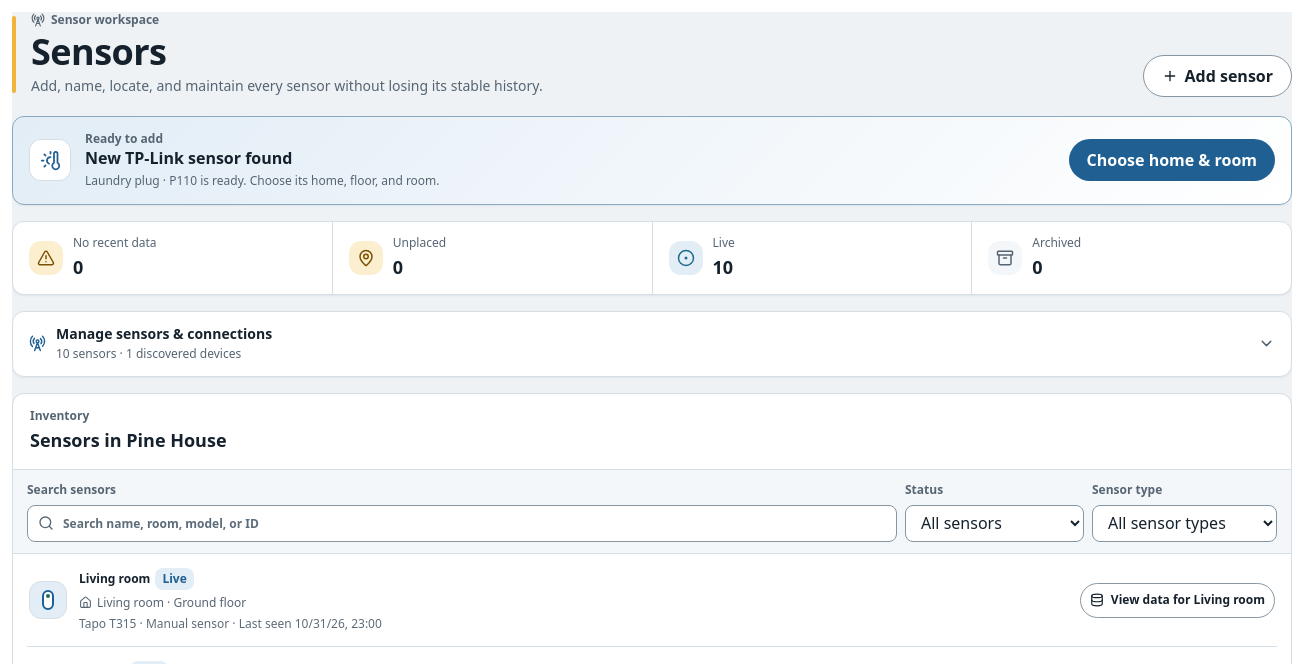
Test case: sensor onboarding and management › labels a direct electricity endpoint and shows its available readings
The image size is (1304, 664).
Click the button "Add sensor". click: (1217, 76)
box: top-left (1142, 55), bottom-right (1292, 97)
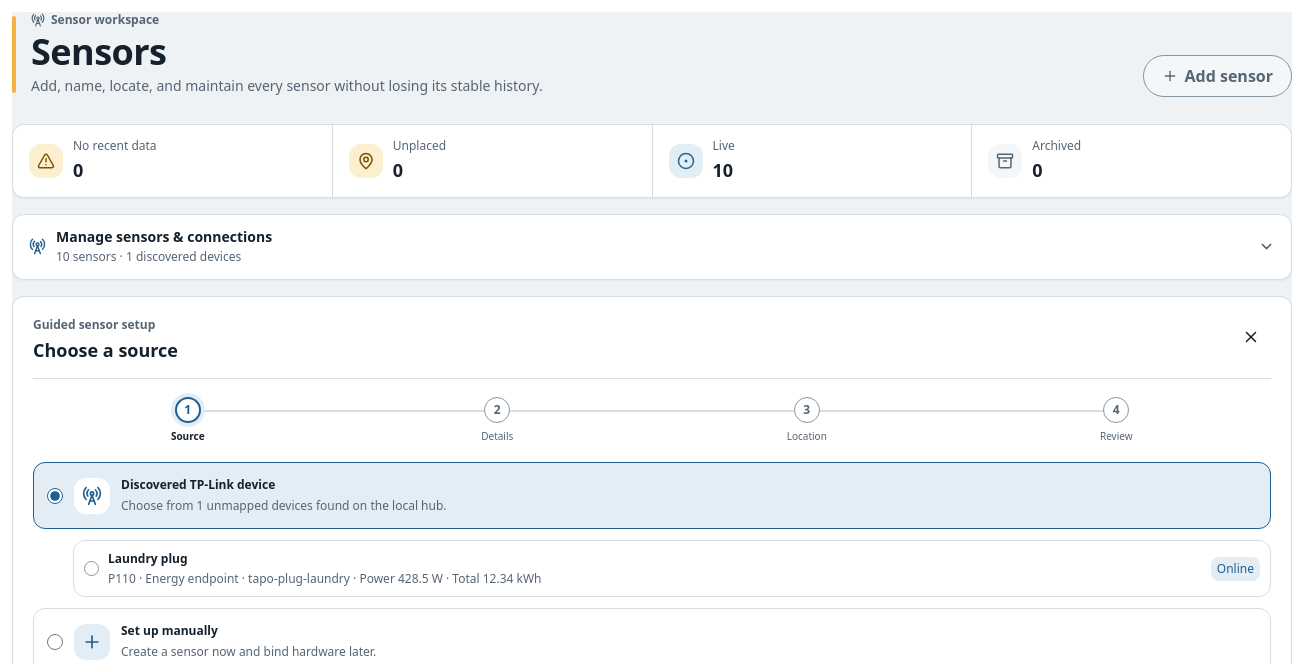
Check: the button that starts with "Laundry plug" is shown, box top-left (73, 540), bottom-right (1271, 598)
